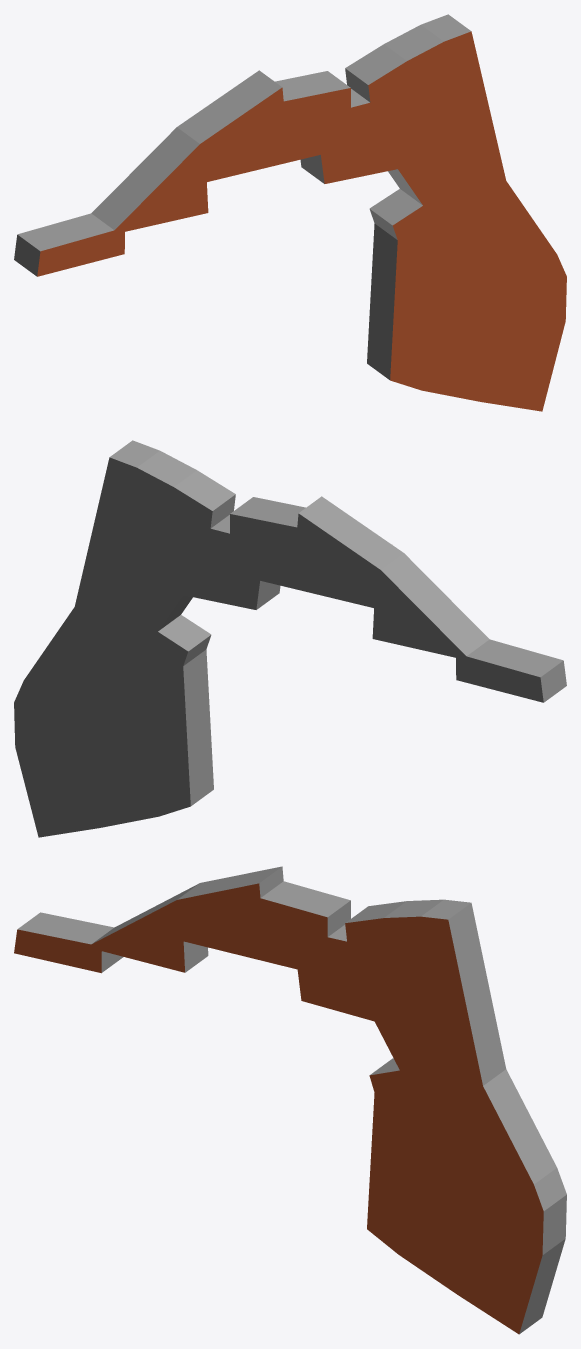
The model's file is construction_6445_assumed_A_Casa_h6m.obj.
The picture shows the model from 3 angles, top to bottom: view 1: azimuth 30°, elevation 25°; view 2: azimuth 150°, elevation 25°; view 3: azimuth 330°, elevation 25°; orthographic projection.
Parts seen in each view (by area): view 1: construction_6445_assumed_A_Casa; view 2: construction_6445_assumed_A_Casa; view 3: construction_6445_assumed_A_Casa.
Part boxes in pixels (x1=…): construction_6445_assumed_A_Casa: x1=14, y1=14, x2=566, y2=411; construction_6445_assumed_A_Casa: x1=14, y1=440, x2=566, y2=837; construction_6445_assumed_A_Casa: x1=14, y1=866, x2=566, y2=1334.
Bounding box in the file's own units: 78.99 × 56.65 × 6.
